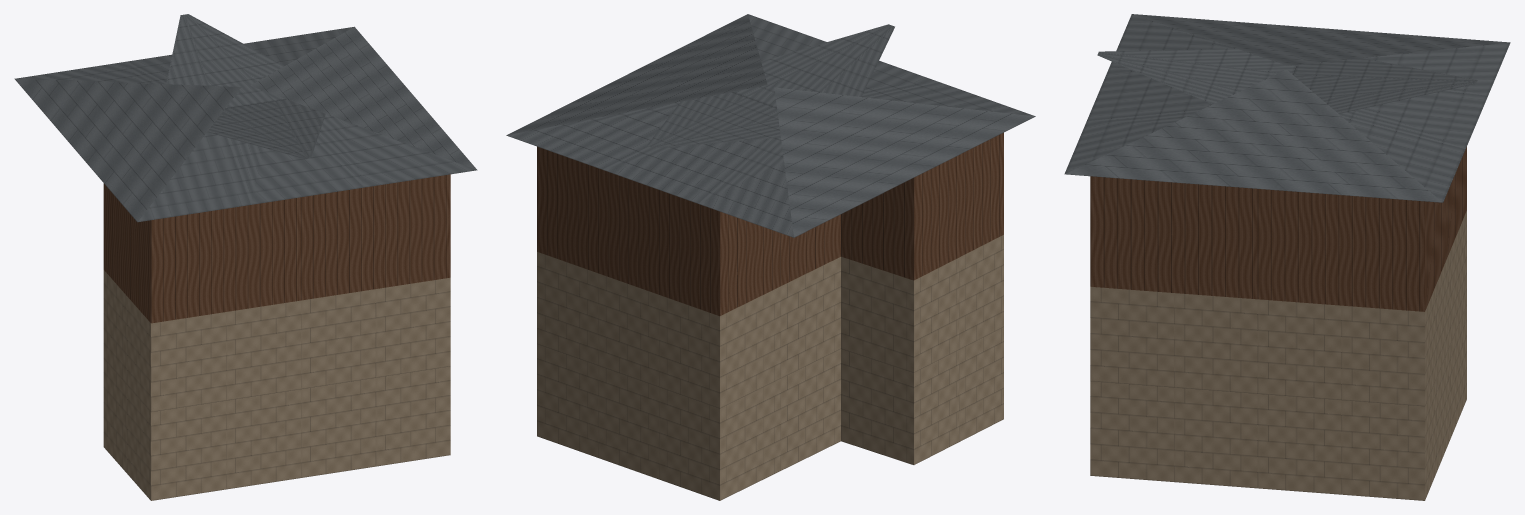
Rendered from bld_c5_6_493.gltf.
3 renders of one model, left to right at view 1: azimuth 30°, elevation 25°; view 2: azimuth 150°, elevation 25°; view 3: azimuth 270°, elevation 25°, orthographic. The views are drawn at different scales.
Parts seen in each view (by area): view 1: bld_c5_6_493; view 2: bld_c5_6_493; view 3: bld_c5_6_493.
Boxes of the visible parts, left/top/right/bottom form: bld_c5_6_493: left=14, top=14, right=477, bottom=500; bld_c5_6_493: left=506, top=14, right=1035, bottom=500; bld_c5_6_493: left=1064, top=14, right=1510, bottom=500.
Bounding box in the file's own units: 9.95 × 8.6 × 9.94.
Materials: 3 (3 with a texture image).
